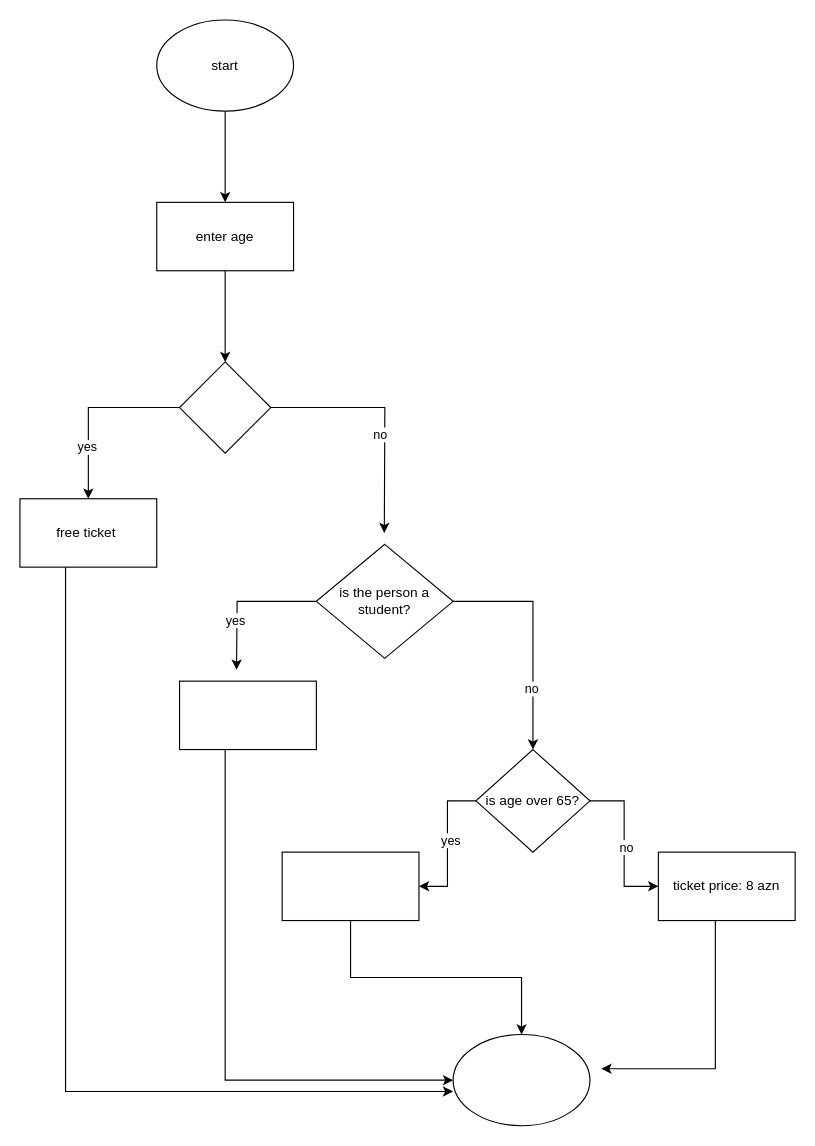
Some shapes in this 815 by 1146 pixel diagram are drawn without their labels. Each missing label, with the centre of its shape:
is age less than 7?: point (224, 407)
ticket price: 4 azn: point (350, 886)
ticket price: 5 azn: point (247, 715)
